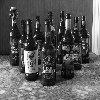beer: (39, 19, 58, 94)
